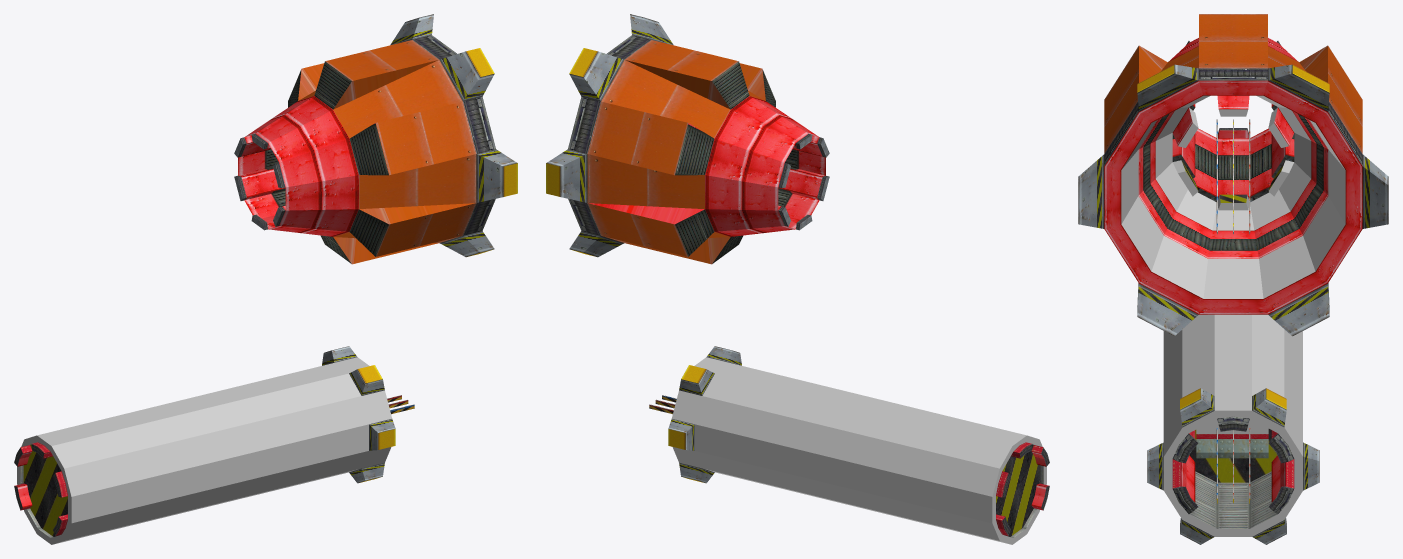
Rendered from 2P_Rail_canyon8.obj.
3 renders of one model, left to right at view 1: azimuth 30°, elevation 25°; view 2: azimuth 150°, elevation 25°; view 3: azimuth 270°, elevation 25°, orthographic. The views are drawn at different scales.
Visible parts, largest first — view 1: Object_2; view 2: Object_2; view 3: Object_2.
Boxes of the visible parts, <box> form: Object_2: <box>14,14,517,544</box>; Object_2: <box>546,14,1049,544</box>; Object_2: <box>1078,14,1388,544</box>.
Size of the model in its own units: 1107 by 1049 by 556.
